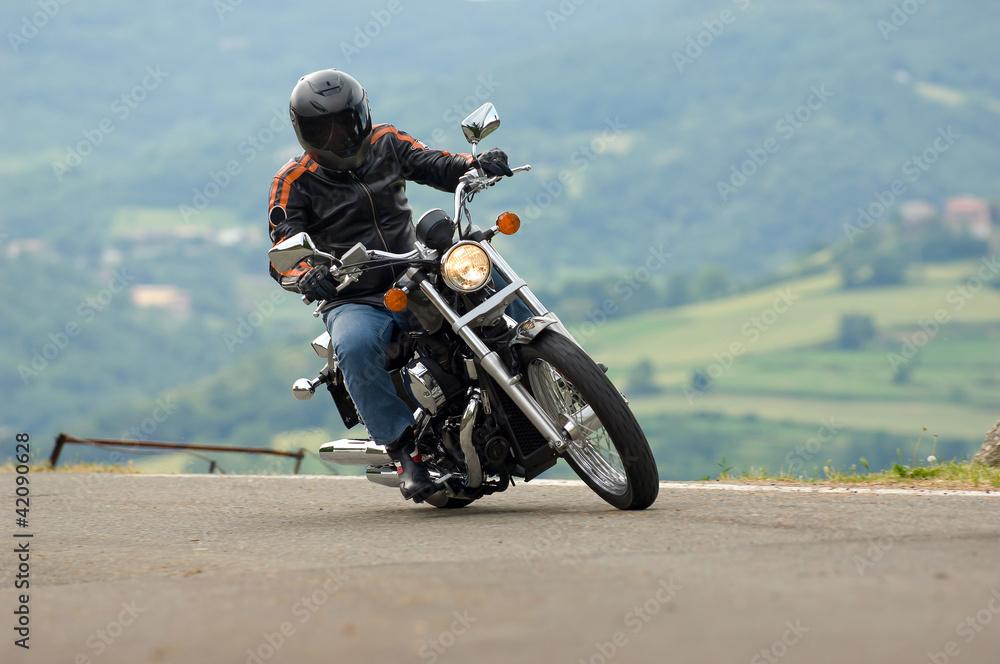helmet: (289, 67, 373, 172)
